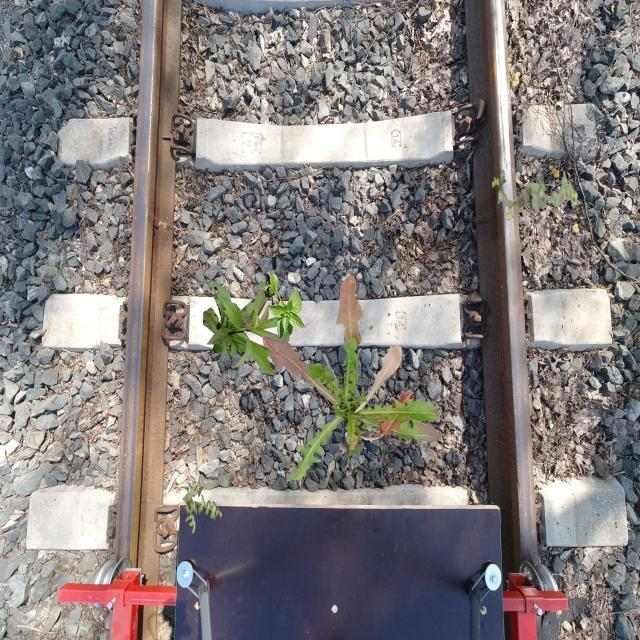Plant: (262, 273, 442, 482), (203, 279, 292, 376), (492, 169, 578, 220), (259, 271, 307, 342), (182, 481, 223, 535)
